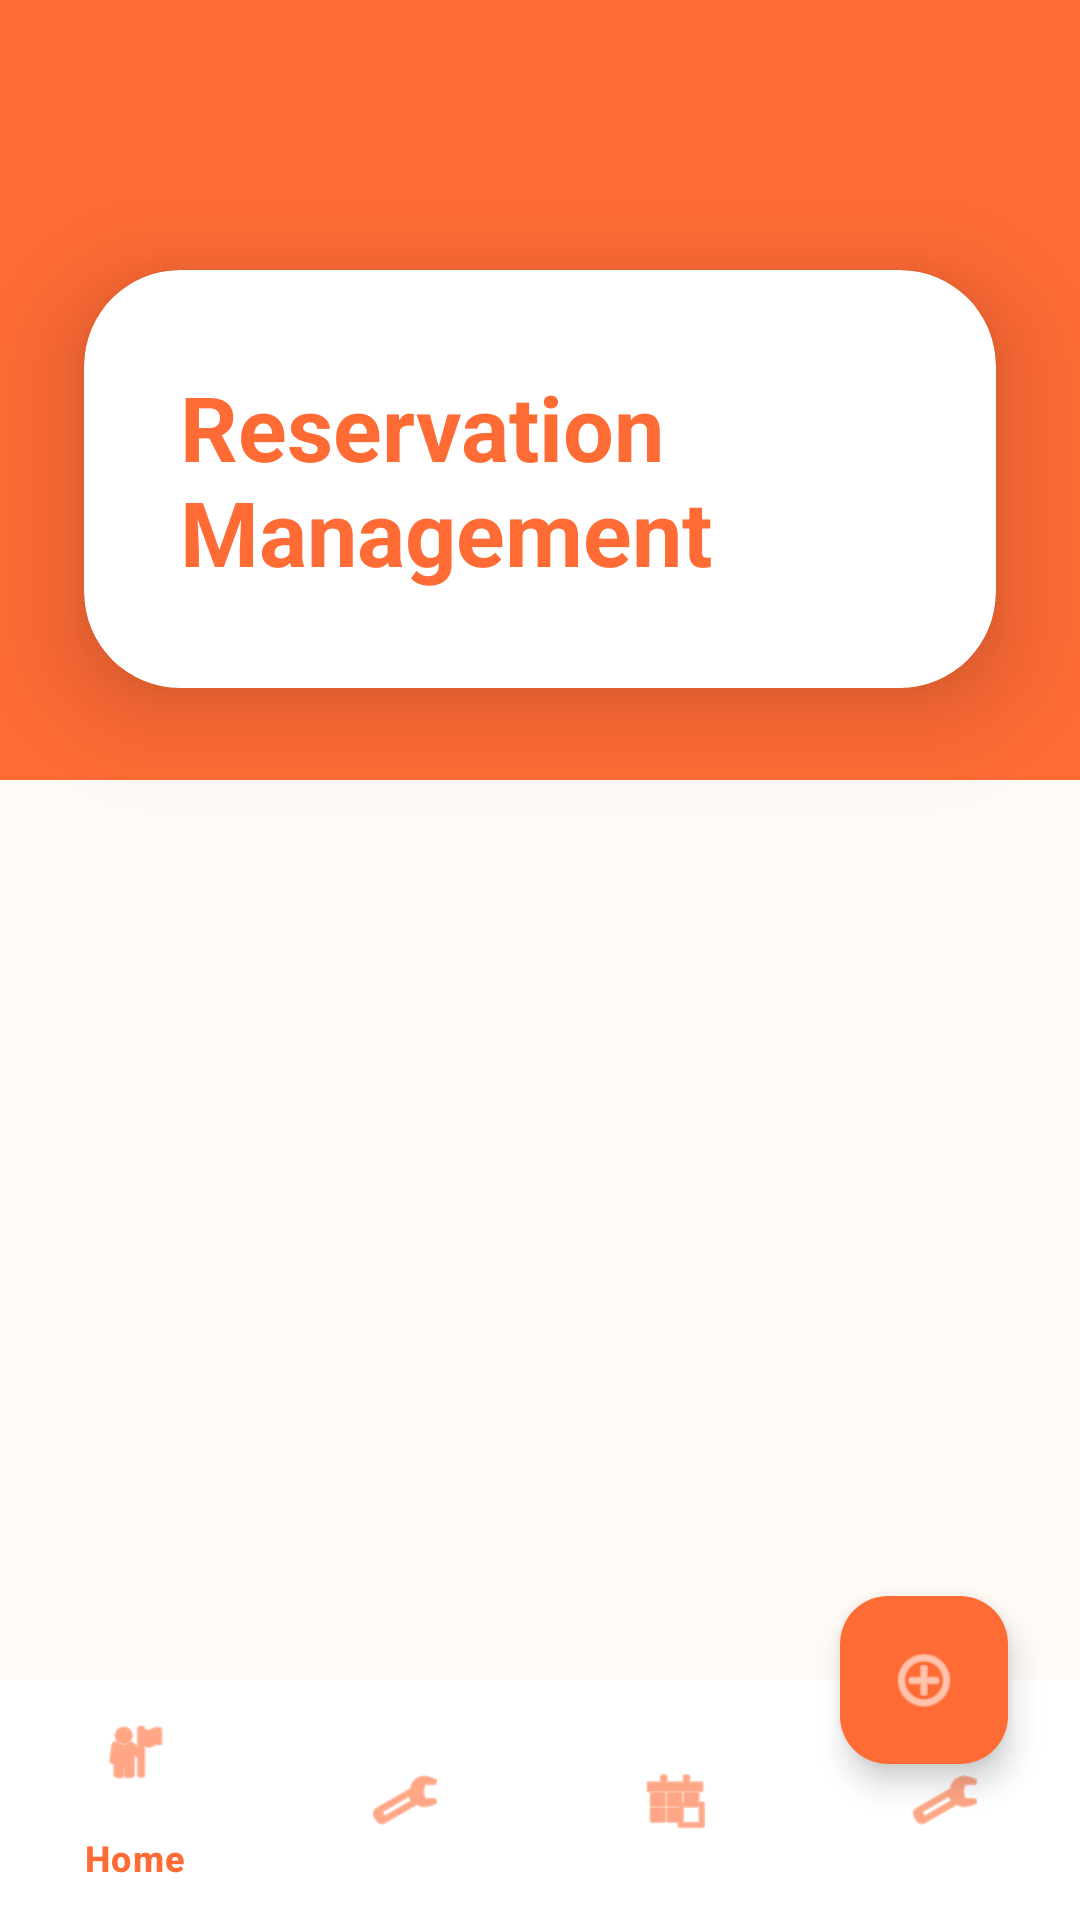

Named icons in this screenshot (1080px x 1920px) and their centers, (x=x, y=y):
add: (x=924, y=1680)
